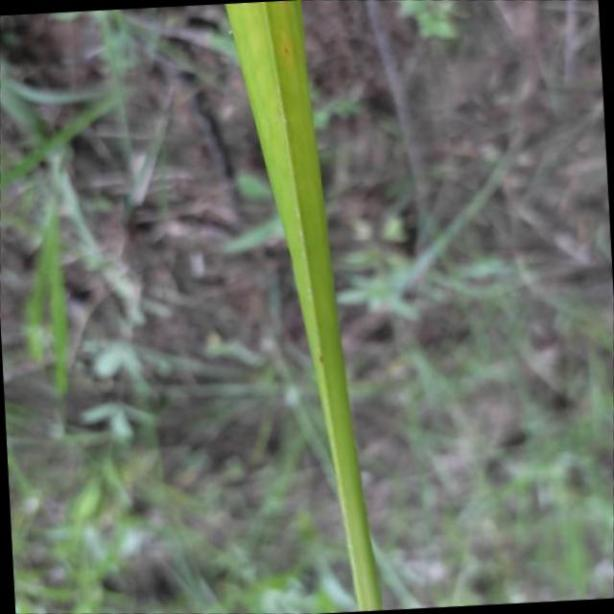nitrogen: (224, 0, 382, 614)
